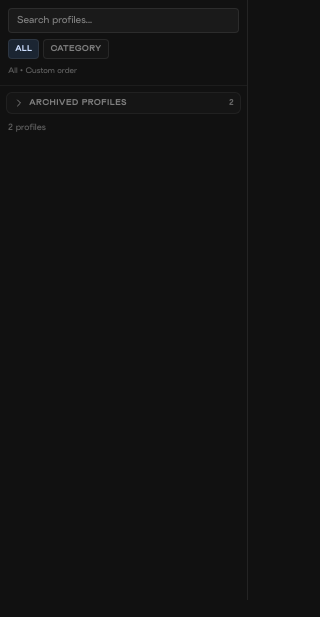
Test: NodeSidebar knowledge fibers › starts with Archived Profiles collapsed by default
Click the button "Archived Profiles 2".
click(124, 103)  # box [6,92,241,114]
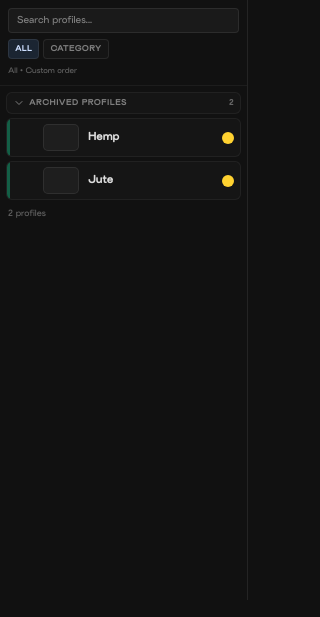
Expected: the button titled "Hemp (fiber)" is shown, [43,124,217,151]
Expected: the button titled "Jute (fiber)" is shown, [43,167,217,194]
